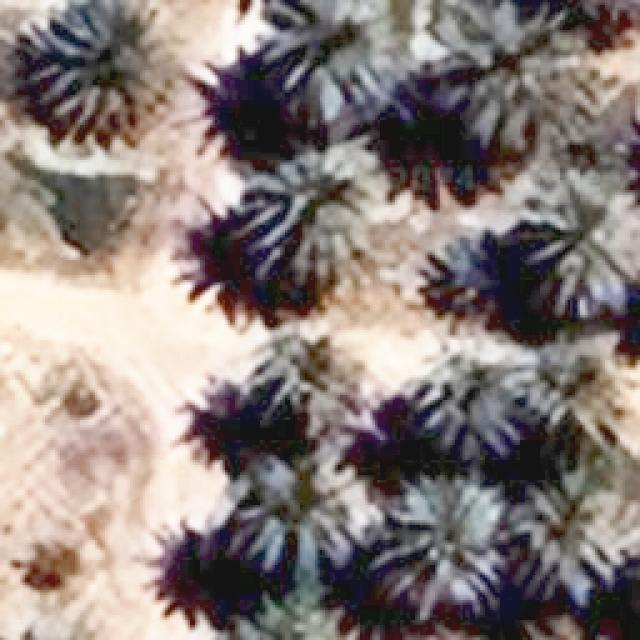PalmTree: (139, 138, 601, 544), (423, 0, 596, 152), (30, 0, 191, 152), (423, 0, 583, 146), (242, 144, 388, 293), (29, 0, 180, 143), (240, 146, 386, 290), (366, 475, 511, 610), (230, 446, 376, 578), (227, 458, 387, 572), (521, 170, 640, 318), (256, 0, 394, 123), (521, 173, 639, 316), (511, 468, 636, 602), (260, 0, 384, 124), (403, 341, 529, 458), (512, 490, 635, 608), (242, 328, 371, 439), (401, 340, 535, 446), (242, 331, 369, 440), (526, 335, 629, 428), (521, 337, 620, 424), (220, 597, 354, 640)
